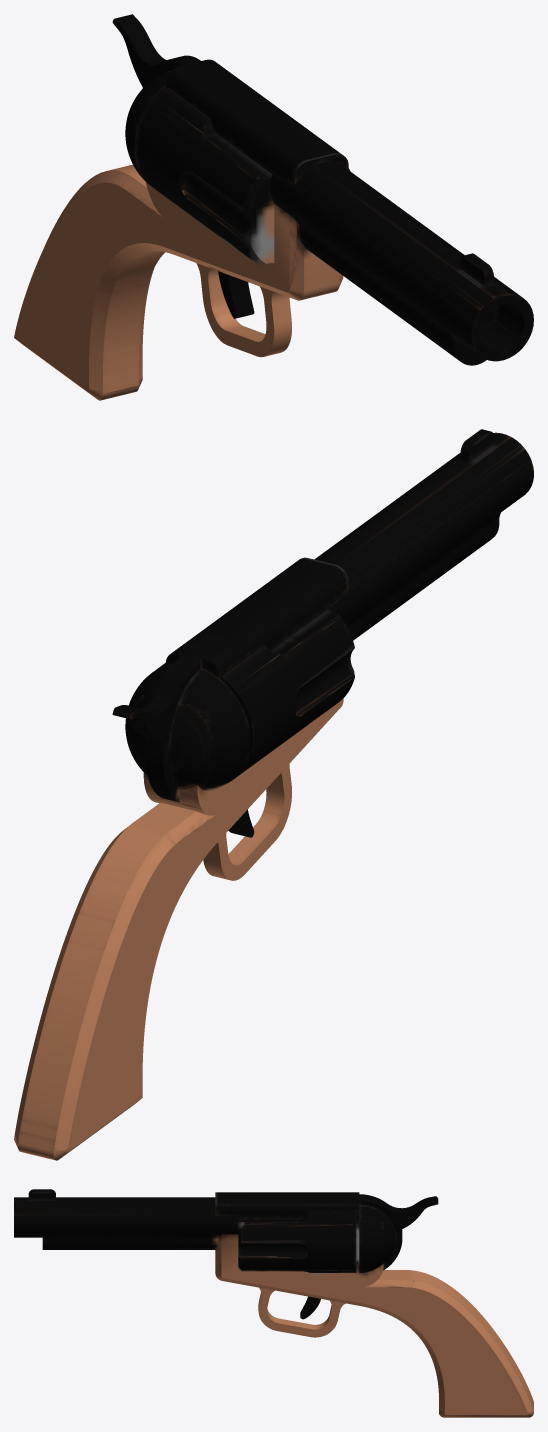
File: revolver.glb
The picture shows the model from 3 angles, top to bottom: view 1: azimuth 30°, elevation 25°; view 2: azimuth 150°, elevation 25°; view 3: azimuth 270°, elevation 25°; orthographic projection. The views are drawn at different scales.
Visible parts, largest first — view 1: revolver; view 2: revolver; view 3: revolver.
Part boxes in pixels (x1,y1,x2,y2): revolver: (14, 14, 533, 400); revolver: (14, 429, 533, 1160); revolver: (14, 1189, 533, 1417).
Bounding box in the file's own units: 0.0432 × 0.1416 × 0.3.
Materials: 1 (1 with a texture image).
